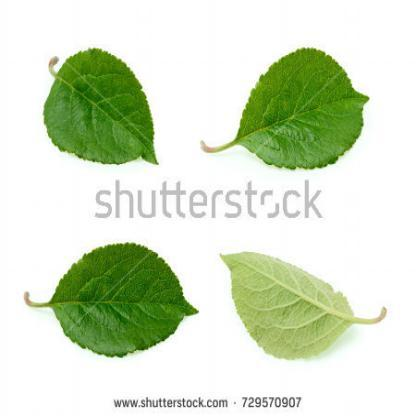Apple leaf: (214, 229, 398, 364), (213, 33, 378, 182), (42, 239, 204, 366), (35, 37, 170, 176)
